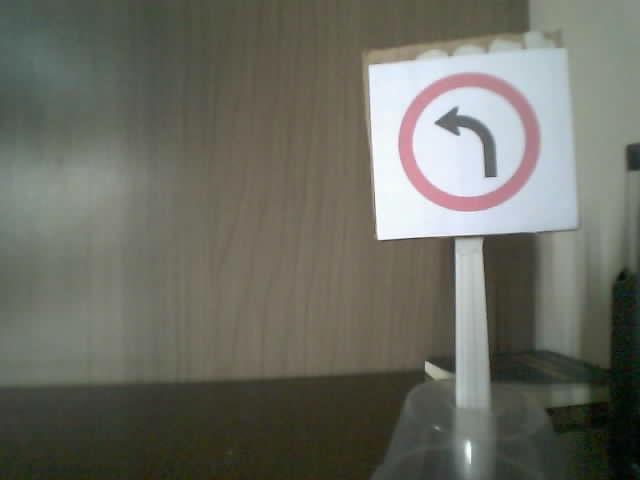R-25a_esquerda: (396, 71, 540, 212)
